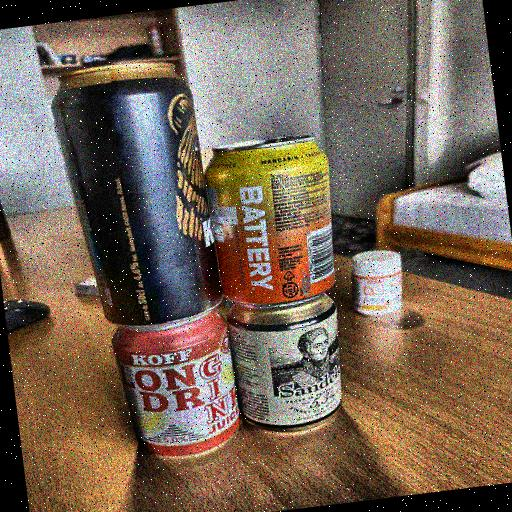karhu: (34, 53, 226, 333)
koff: (102, 314, 247, 467)
sandels: (230, 292, 361, 447)
